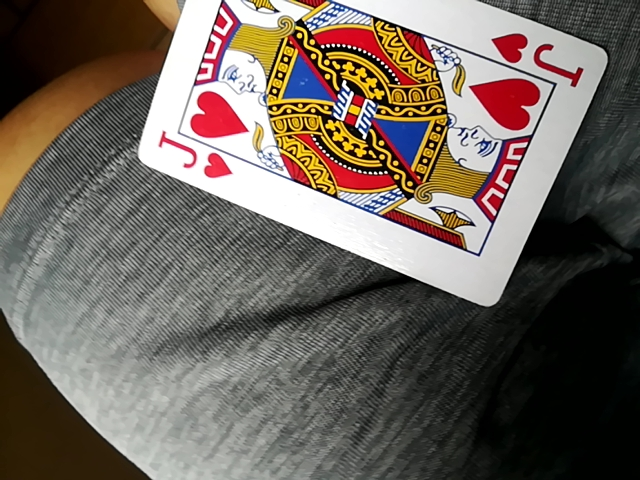hx j: (138, 1, 612, 310)
